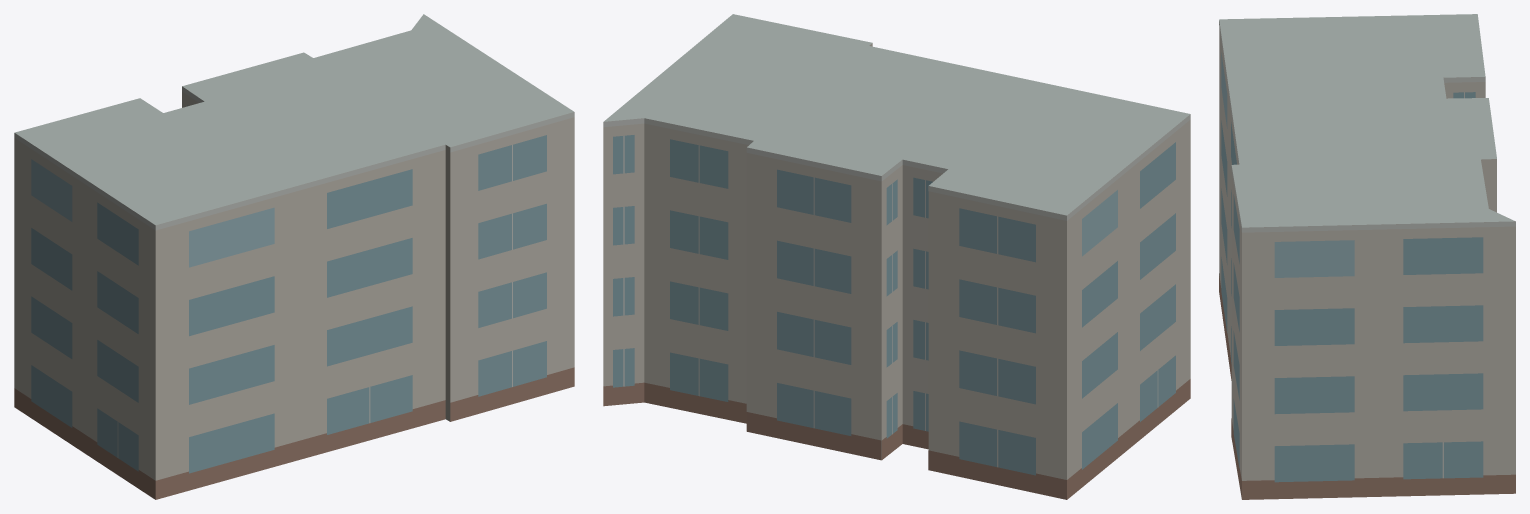
Rendered from survey-upis-32749266.glb.
3 renders of one model, left to right at view 1: azimuth 30°, elevation 25°; view 2: azimuth 150°, elevation 25°; view 3: azimuth 270°, elevation 25°, orthographic. The views are drawn at different scales.
Parts seen in each view (by area): view 1: survey-upis-32749266.tmp; view 2: survey-upis-32749266.tmp; view 3: survey-upis-32749266.tmp.
Part boxes in pixels (box(x1,y1,x2,y2)): survey-upis-32749266.tmp: box(14, 14, 574, 499); survey-upis-32749266.tmp: box(603, 14, 1190, 499); survey-upis-32749266.tmp: box(1219, 14, 1515, 499).
Size of the model in its own units: 21.71 by 12.9 by 12.75.
